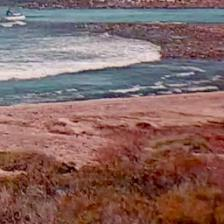surfer: (5, 9, 14, 17)
